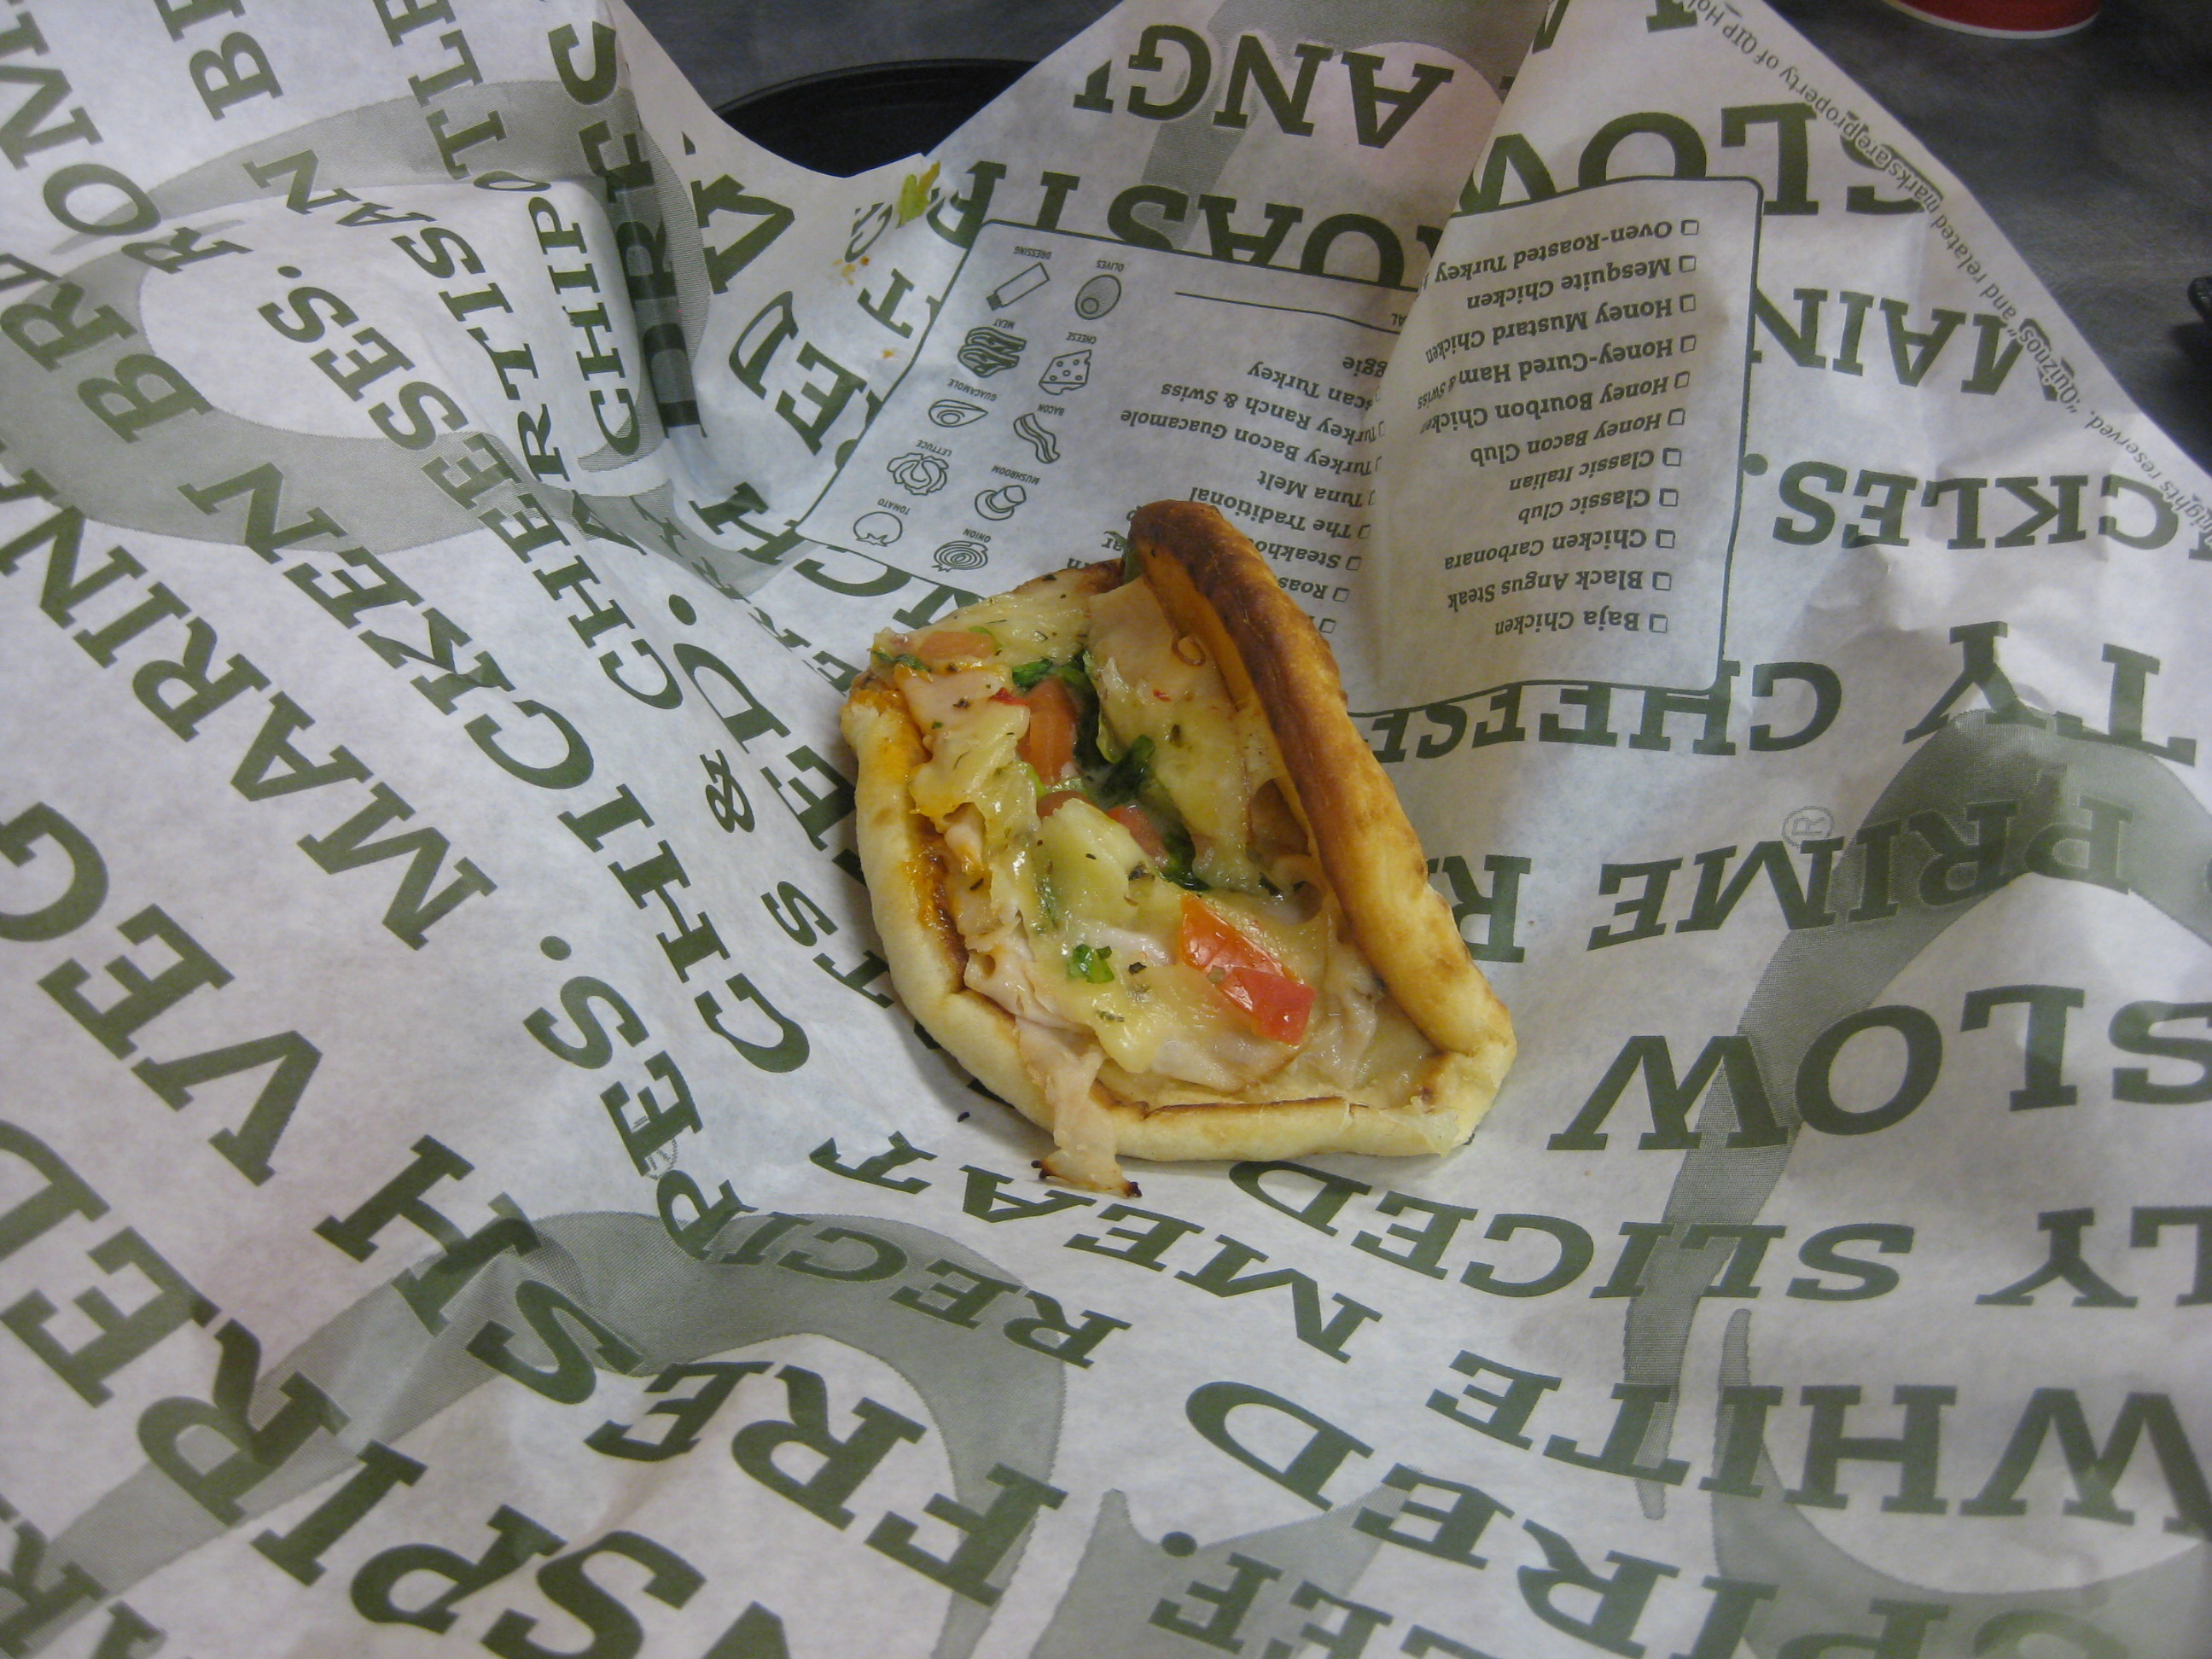taco: (783, 464, 1604, 1248)
